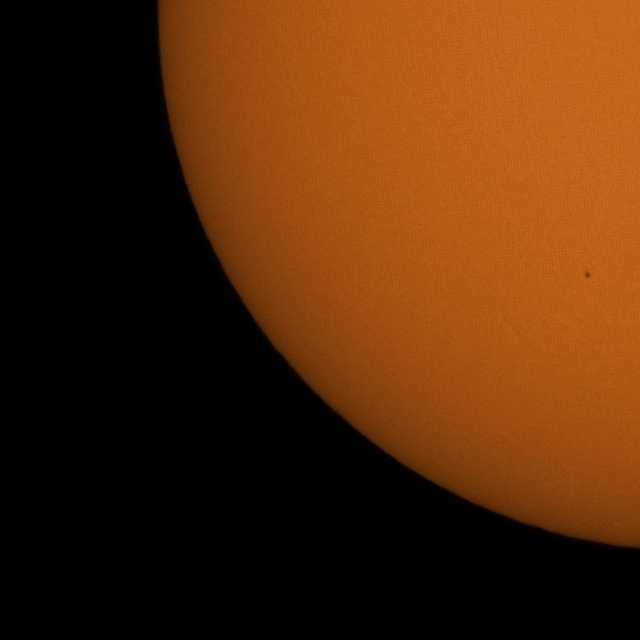sunspot: (584, 270, 592, 280)
